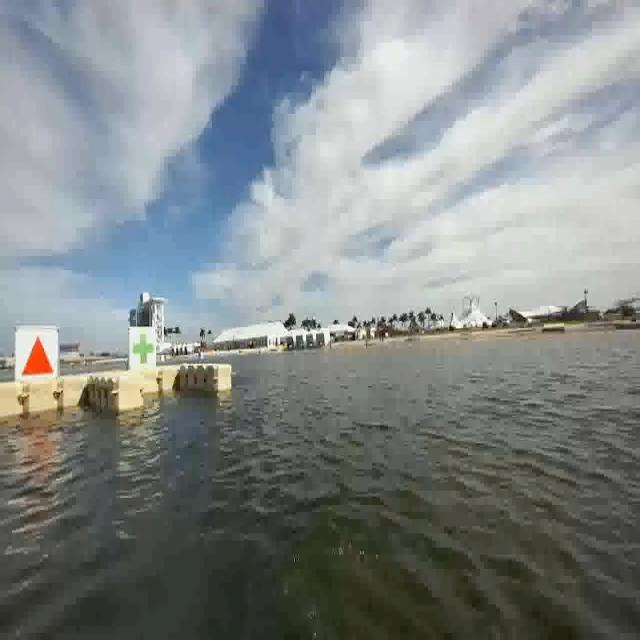blue-cross: (130, 324, 158, 376)
red-dot: (18, 325, 57, 375)
